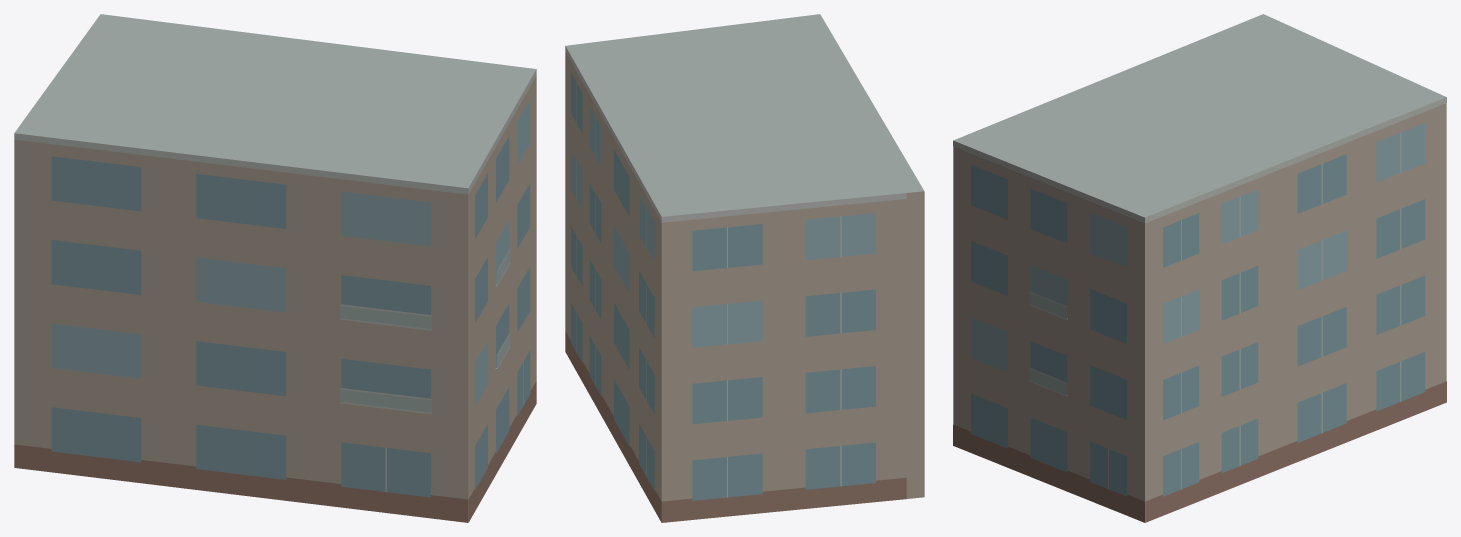
File: survey-upis-32891635.glb
The picture shows the model from 3 angles, left to right: view 1: azimuth 30°, elevation 25°; view 2: azimuth 150°, elevation 25°; view 3: azimuth 270°, elevation 25°; orthographic projection. The views are drawn at different scales.
Parts seen in each view (by area): view 1: survey-upis-32891635.tmp; view 2: survey-upis-32891635.tmp; view 3: survey-upis-32891635.tmp.
Part boxes in pixels (<box>): survey-upis-32891635.tmp: <box>14,14,536,522</box>; survey-upis-32891635.tmp: <box>565,14,924,522</box>; survey-upis-32891635.tmp: <box>953,14,1446,522</box>.
Size of the model in its own units: 18.32 by 12.8 by 18.77.
